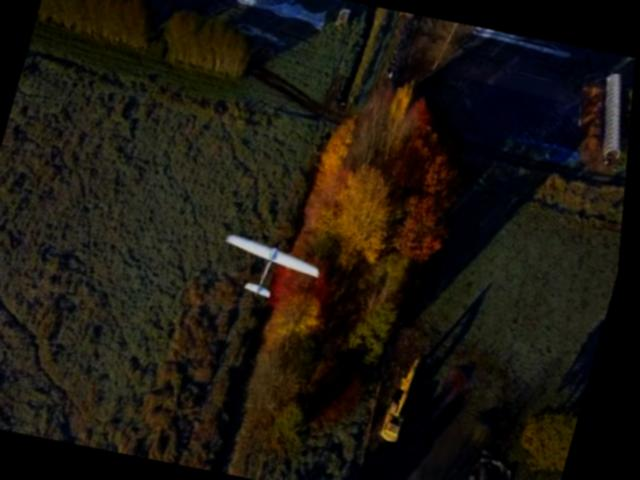uav: (207, 220, 337, 313)
